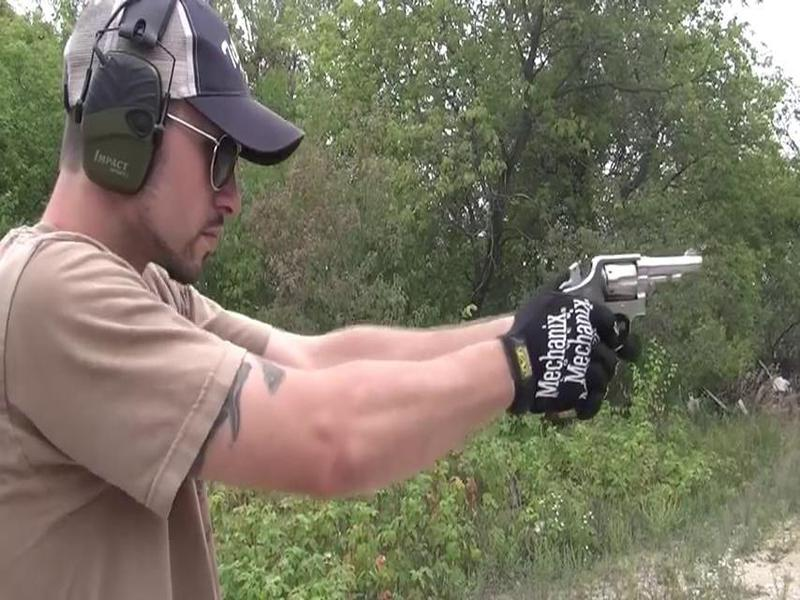Revolver: (547, 247, 705, 354)
